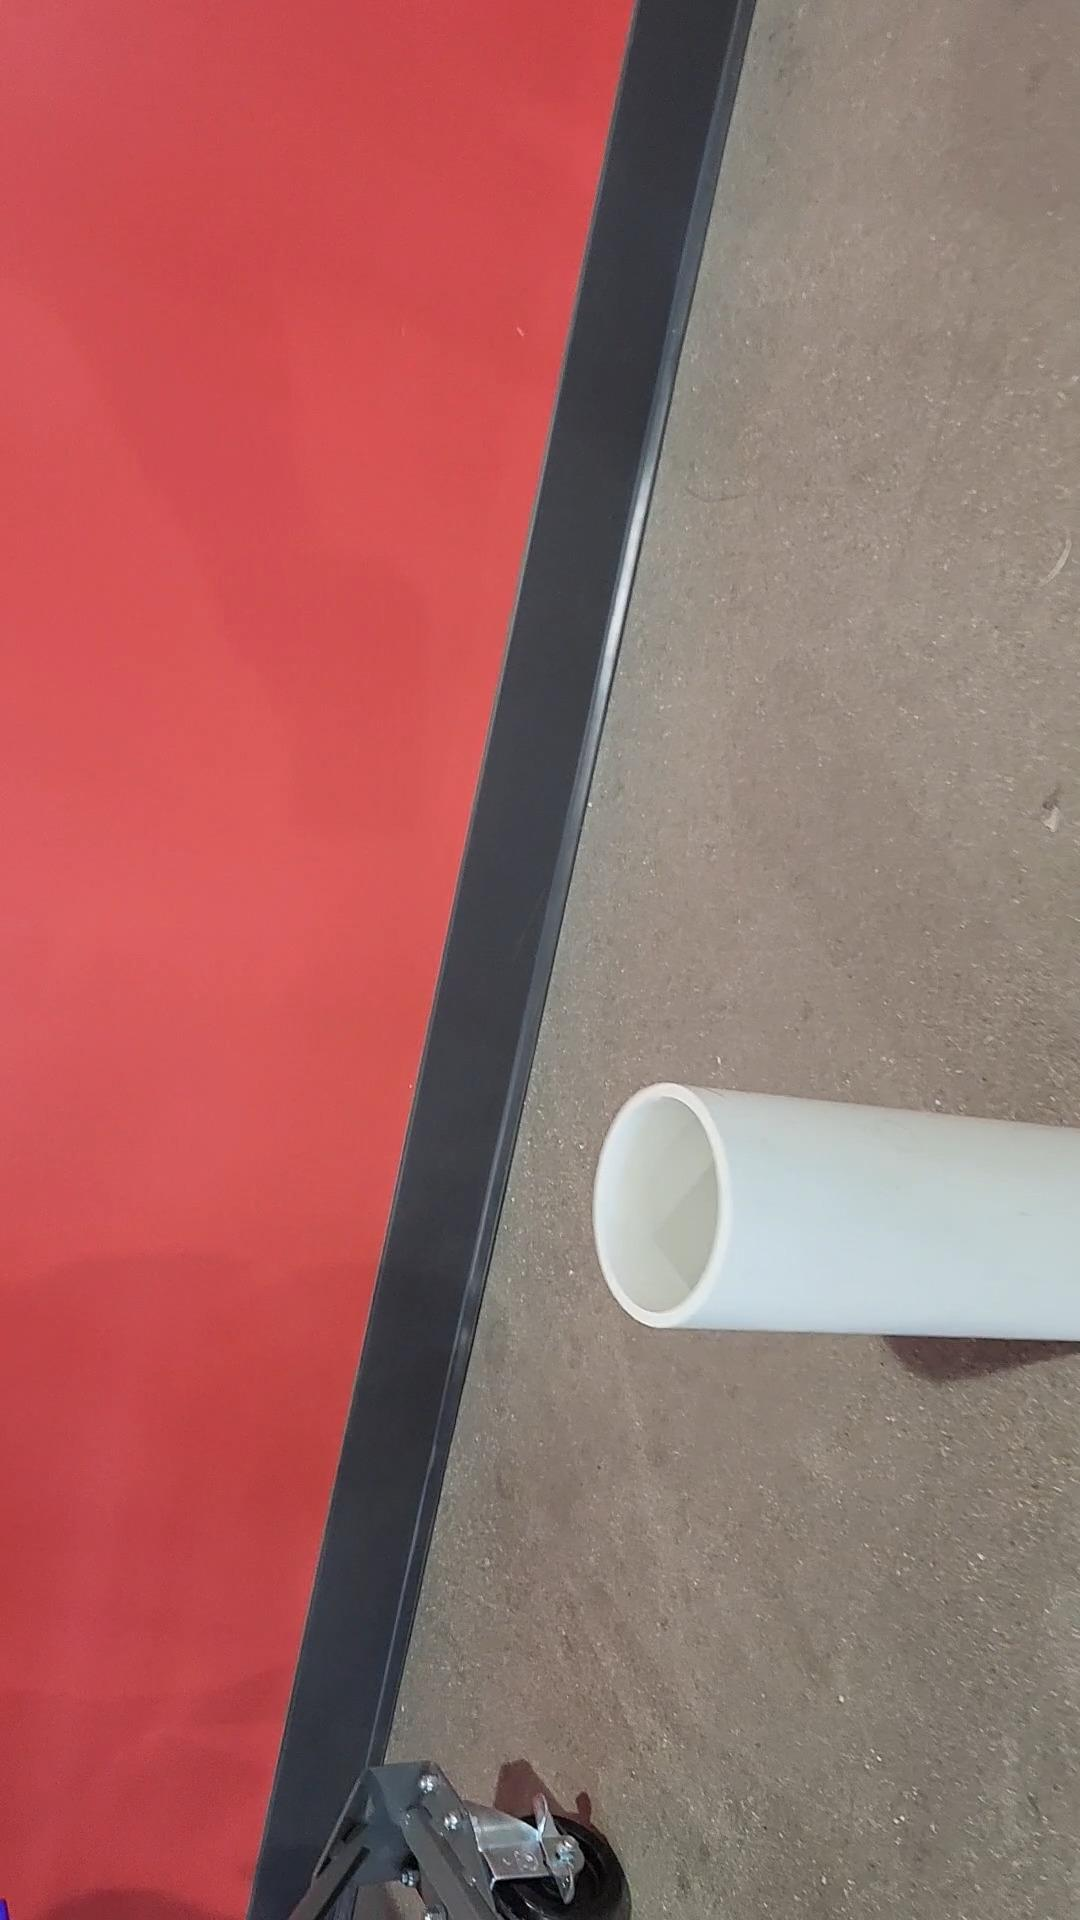coral: (595, 1083, 1080, 1332)
